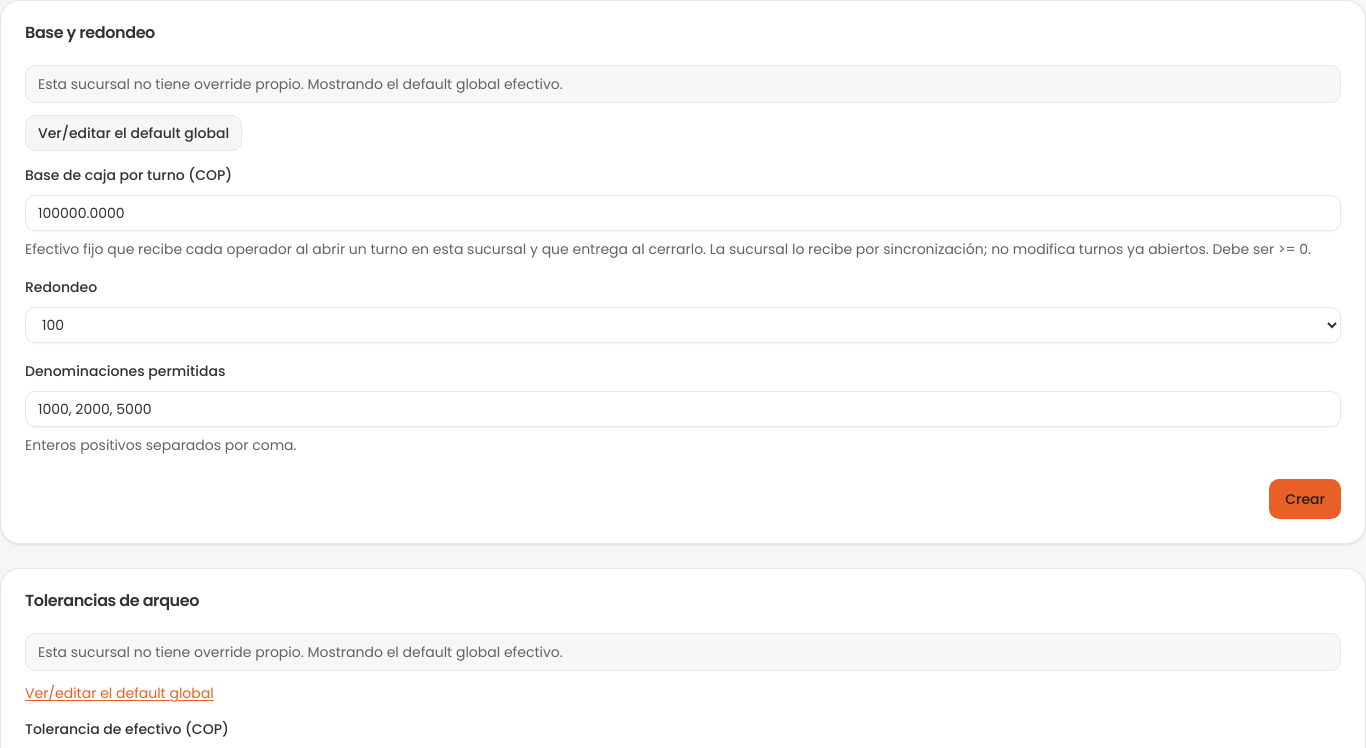
it: SucursalCaja › T5: denominaciones inválidas (no positivas) bloquean el submit (BR3)
The width and height of the screenshot is (1366, 748).
Replace the text in the field with test id "sucursal-caja-base-field-denominaciones" with "1000, -5, 0": (683, 409) [25,391,1341,427]
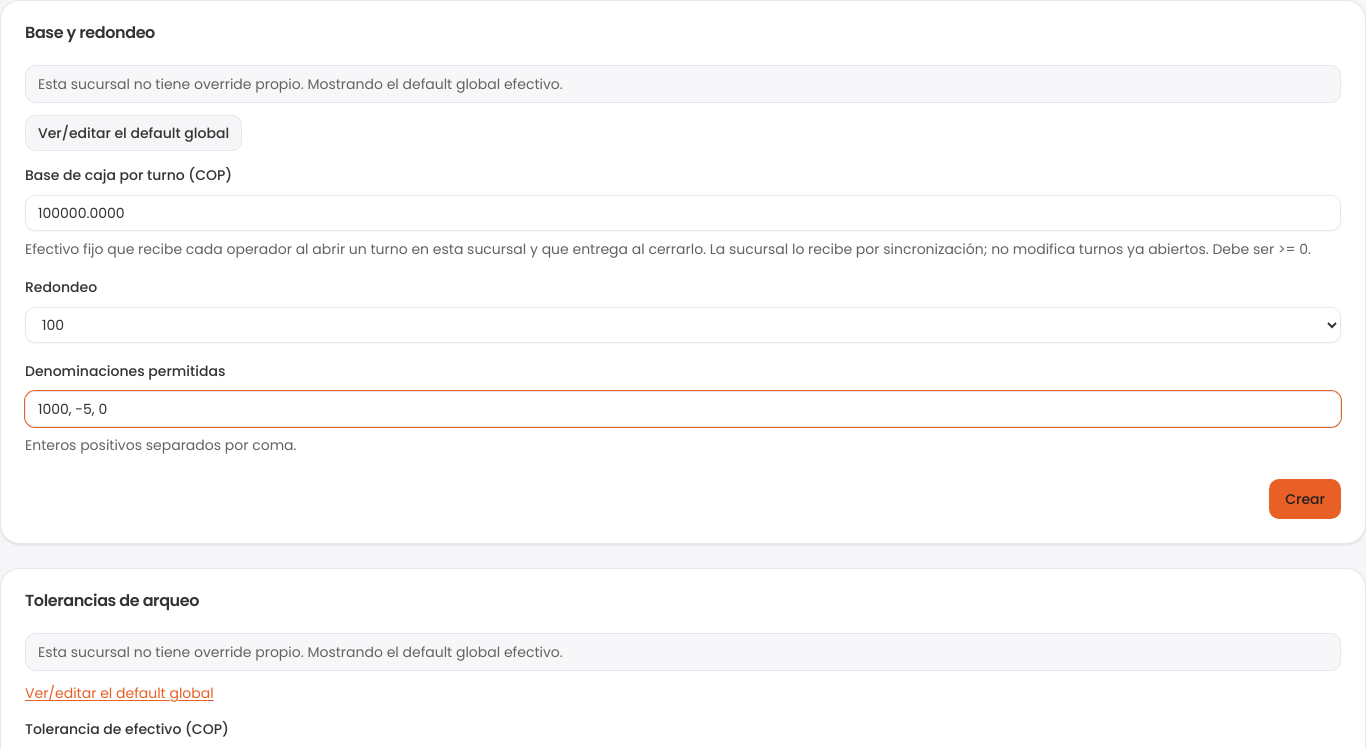
Click the button with test id "sucursal-caja-base-submit": (1305, 499) [1269,479,1341,519]
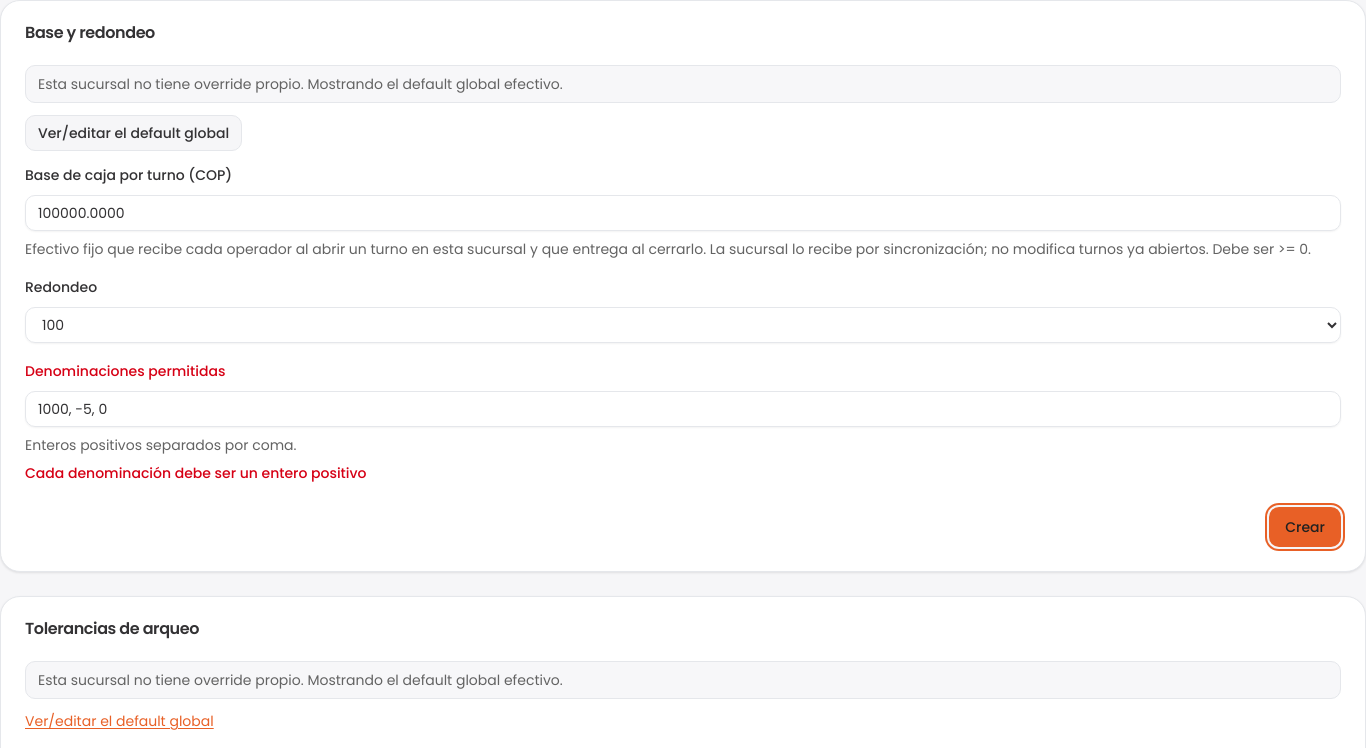
Expected: the message "Cada denominación debe ser un entero positivo" is shown, [25,463,366,483]
